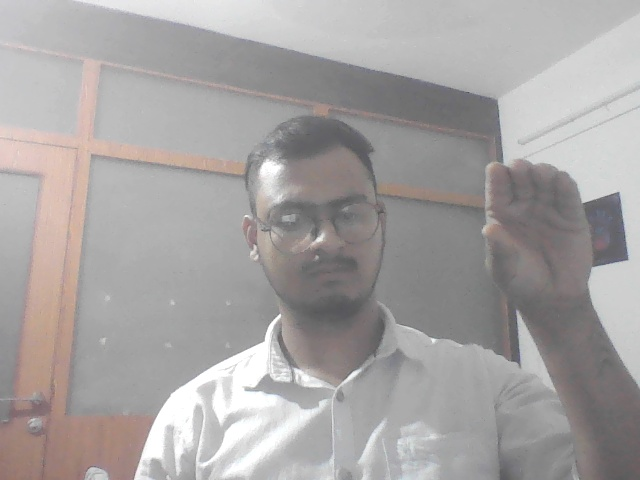NO: (465, 152, 610, 325)
